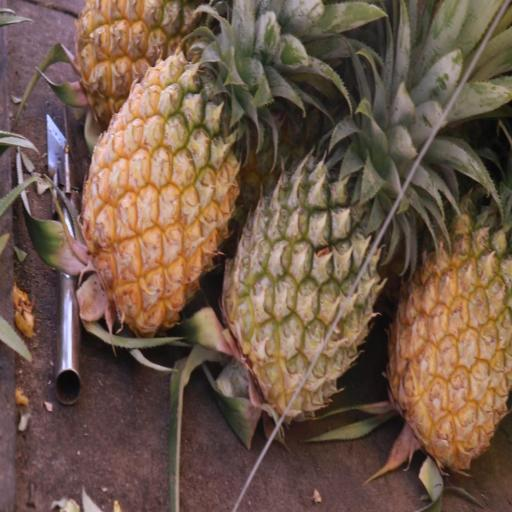Pineapple - v8 v1: (76, 0, 244, 340), (383, 91, 512, 480)
